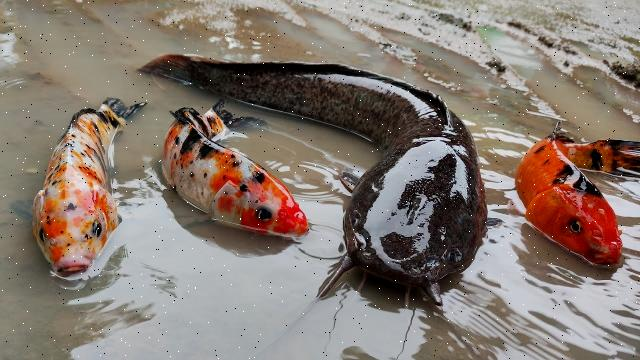Mulut: (327, 222, 447, 330), (40, 239, 112, 294), (578, 234, 630, 290)
Sirip Ekor: (117, 30, 235, 106), (192, 75, 276, 141)
Sirip Punggung: (203, 38, 459, 146)
